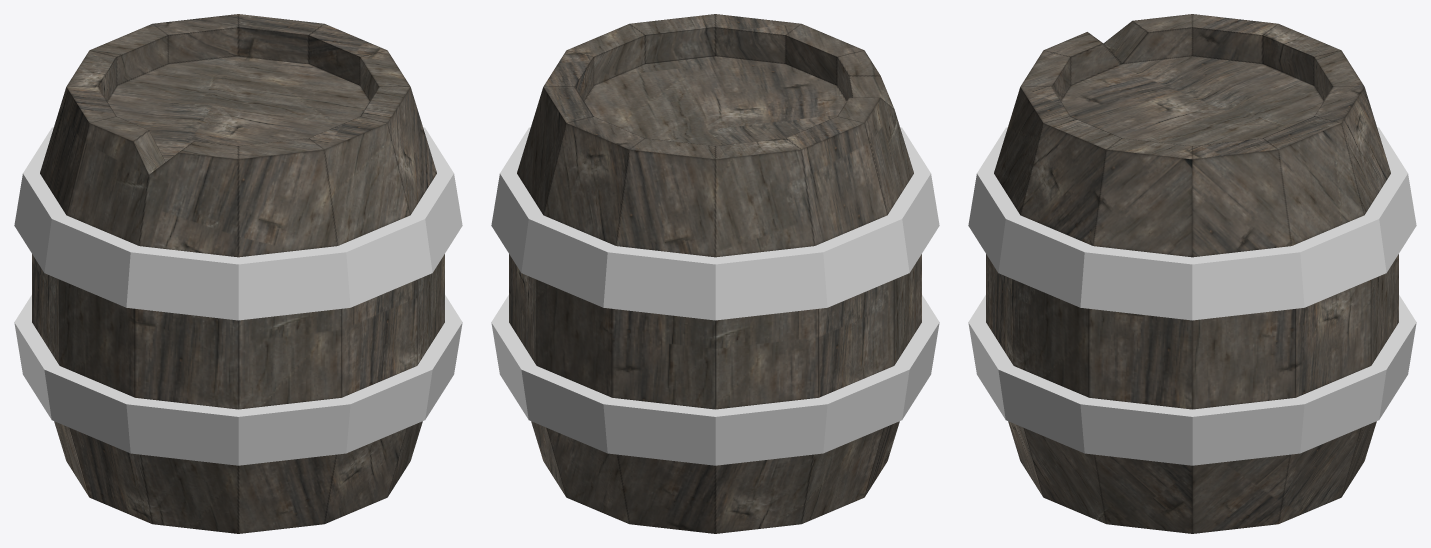
File: Barrel_Model.fbx
3 views of the same model, side by side, from view 1: azimuth 30°, elevation 25°; view 2: azimuth 150°, elevation 25°; view 3: azimuth 270°, elevation 25° (orthographic).
Visible parts, largest first — view 1: Barrel; view 2: Barrel; view 3: Barrel.
Boxes of the visible parts, bbox=[...] form: Barrel: bbox=[14, 14, 462, 533]; Barrel: bbox=[491, 14, 939, 533]; Barrel: bbox=[968, 14, 1416, 533].
Bounding box in the file's own units: 130 × 120 × 130.
2 materials, 1 textured.
